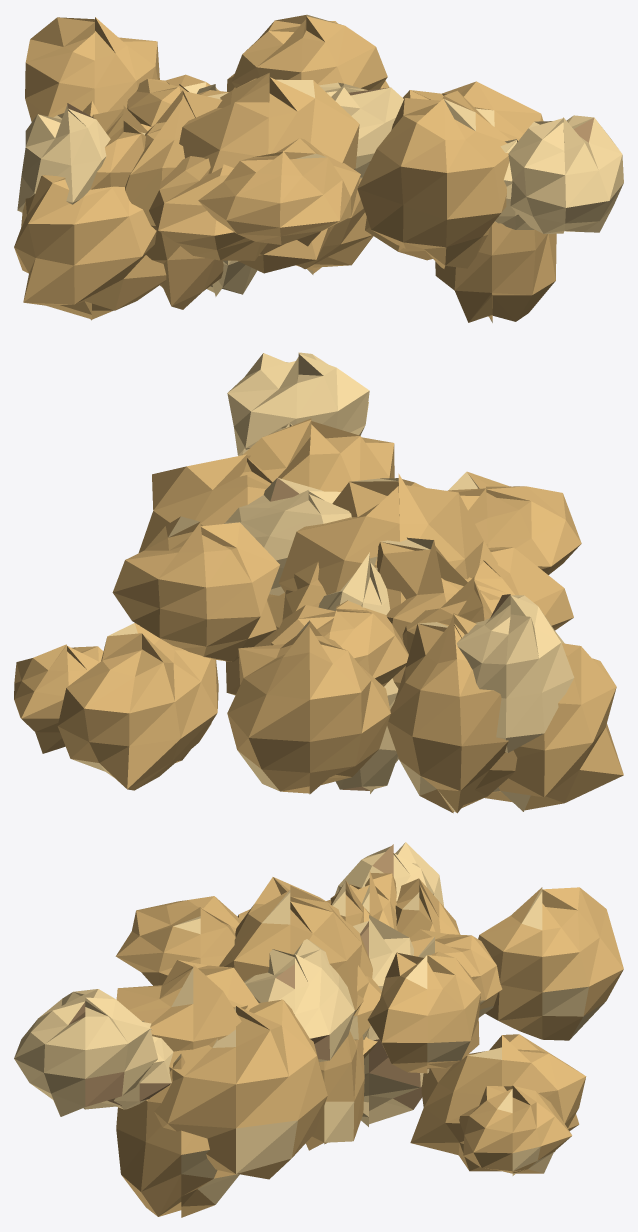
File: amber.glb
3 views of the same model, one above another, from view 1: azimuth 30°, elevation 25°; view 2: azimuth 150°, elevation 25°; view 3: azimuth 270°, elevation 25° (orthographic). The views are drawn at different scales.
Parts seen in each view (by area): view 1: amber; view 2: amber; view 3: amber.
Boxes of the visible parts, box(x1,y1,x2,y2) form: amber: box(14, 14, 623, 322); amber: box(14, 352, 623, 813); amber: box(14, 842, 623, 1217).
Bounding box in the file's own units: 0.9916 × 0.5117 × 1.13.
